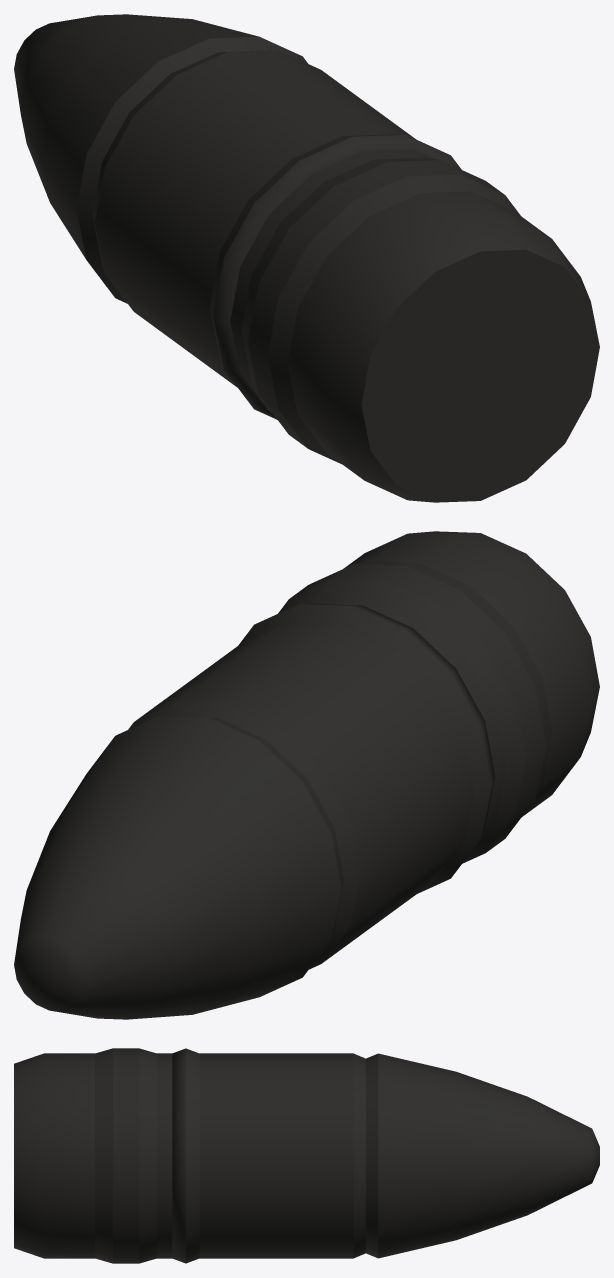
File: apcr_bullet_75panther.fbx
3 views of the same model, one above another, from view 1: azimuth 30°, elevation 25°; view 2: azimuth 150°, elevation 25°; view 3: azimuth 270°, elevation 25° (orthographic). The views are drawn at different scales.
Parts seen in each view (by area): view 1: Cylinder; view 2: Cylinder; view 3: Cylinder.
Boxes of the visible parts, x1,y1,x2,y2 form: Cylinder: [14, 14, 599, 502]; Cylinder: [14, 531, 599, 1019]; Cylinder: [14, 1048, 599, 1263].
Bounding box in the file's own units: 78.67 × 78.67 × 214.
